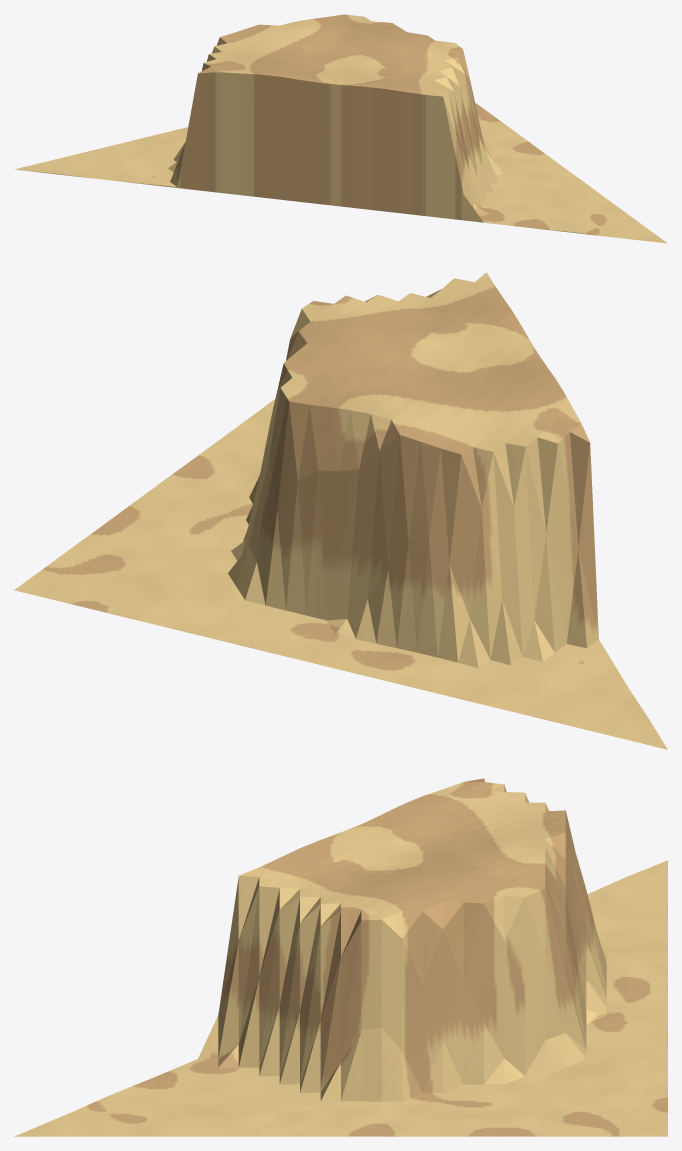
File: Desert_Mountains_12_SE.obj
3 renders of one model, top to bottom at view 1: azimuth 30°, elevation 25°; view 2: azimuth 150°, elevation 25°; view 3: azimuth 270°, elevation 25°, orthographic. The views are drawn at different scales.
Bounding box in the file's own units: 10 × 2.84 × 10.
1 material, 1 textured.
